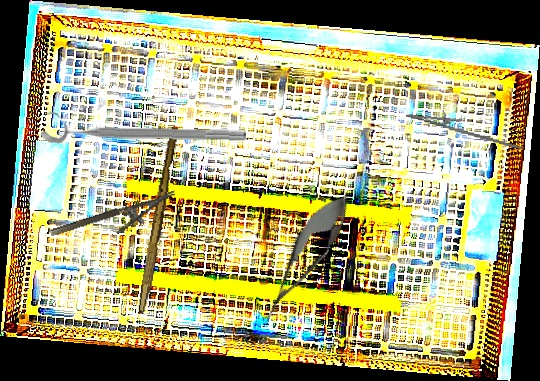Fixation Ring: (40, 110, 247, 147)
Micro Scissor: (247, 181, 363, 335)
Needle Holder: (49, 190, 182, 253), (403, 104, 527, 151)
Scalpel Handle: (137, 126, 180, 315)
